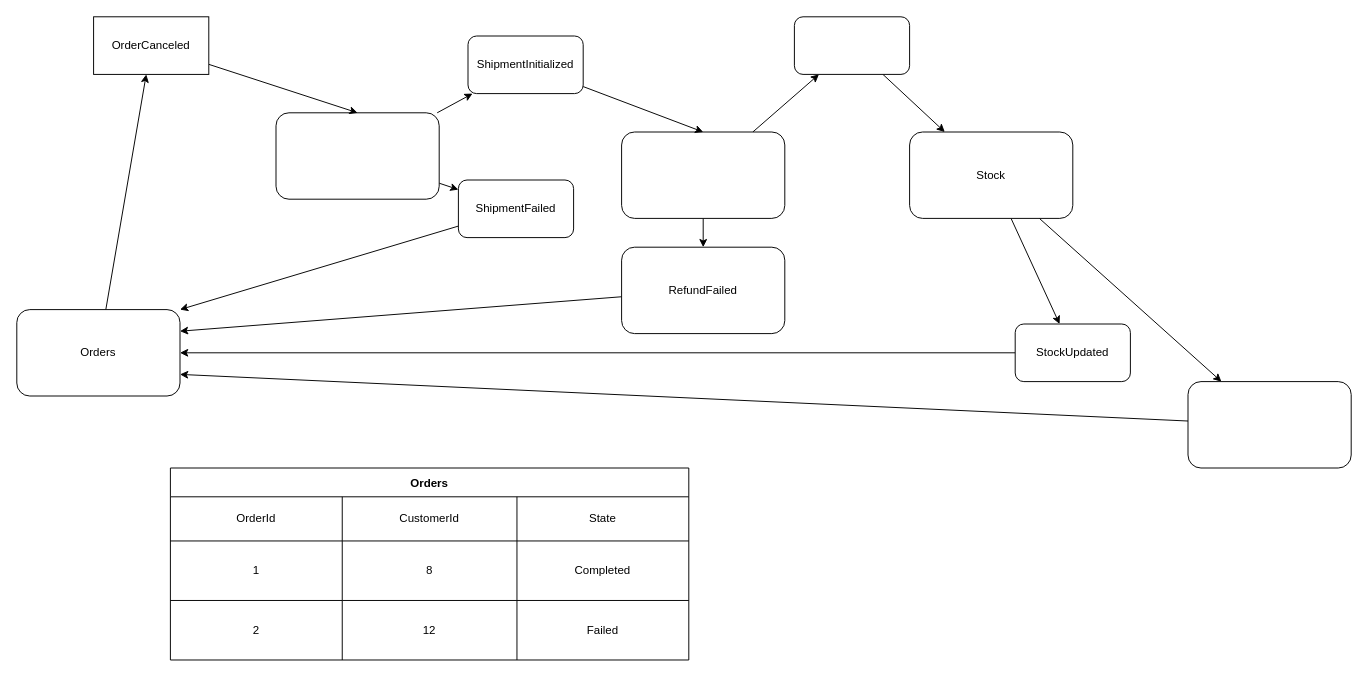
This 1368x677 diagram has some shape labels left out. Here are the shapes that lost their labels. From the top down, the centre of each, then its label:
At (851,45): "RefundCompleted".
At (357,155): "Shipment".
At (703,174): "Refund".
At (1269,424): "StockUpdateFailed".
